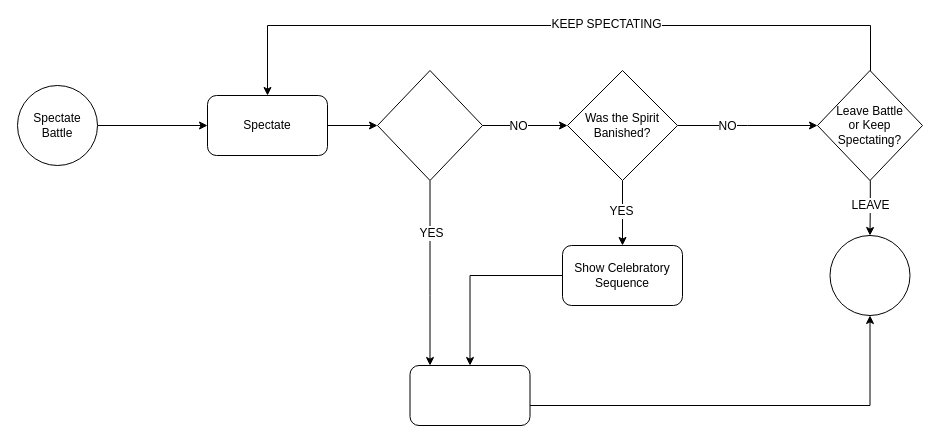
Image size: 940x443. Some labels were removed from this diagram. Here are the shapes that lost their labels. From the top down, the centre of each, then its label:
the point at 429,125: Was Everyone Banished?
the point at 869,275: Leave Battle
the point at 469,395: Show Debrief Sequence
